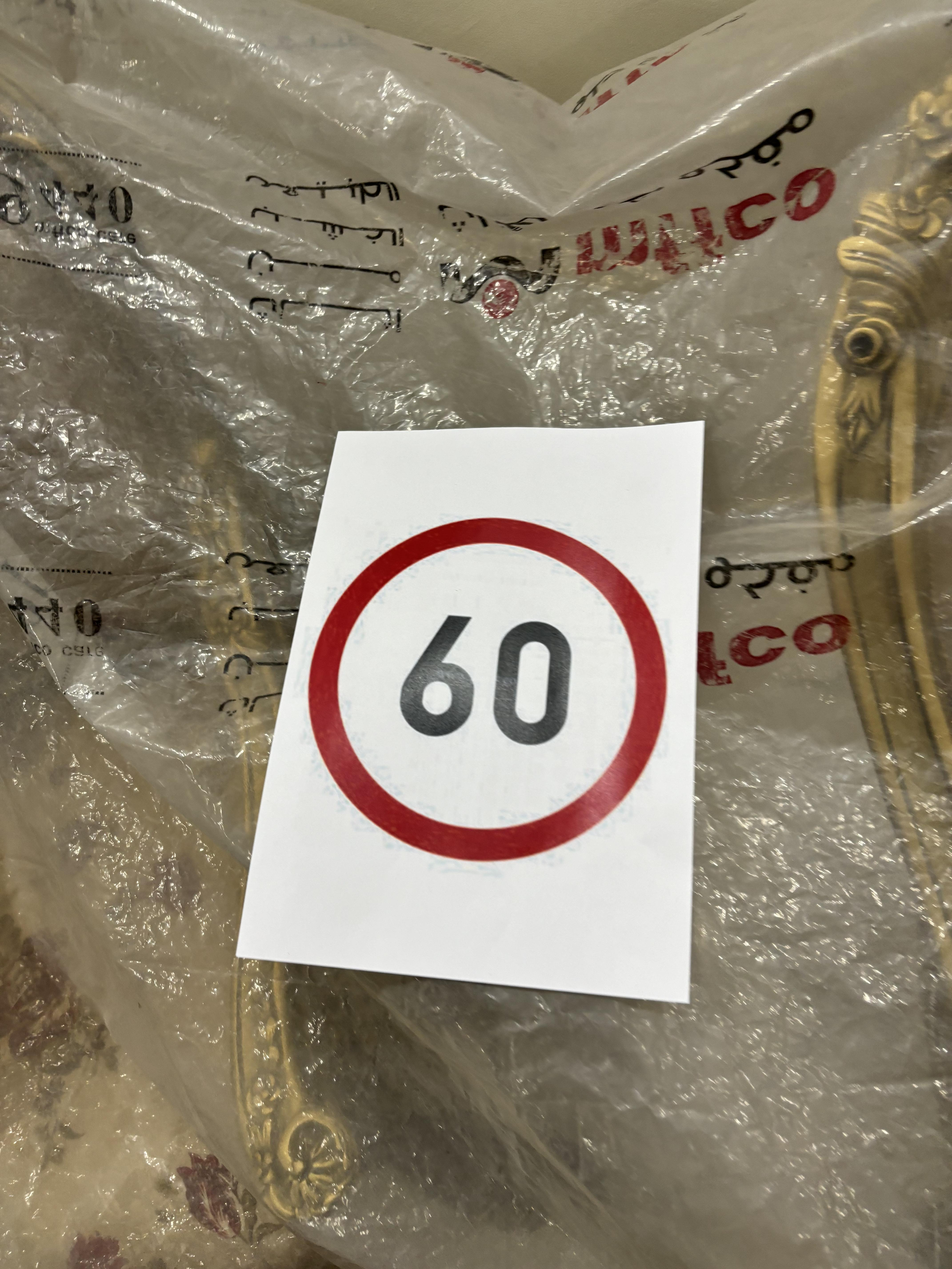60-Speed: (314, 509, 671, 863)
